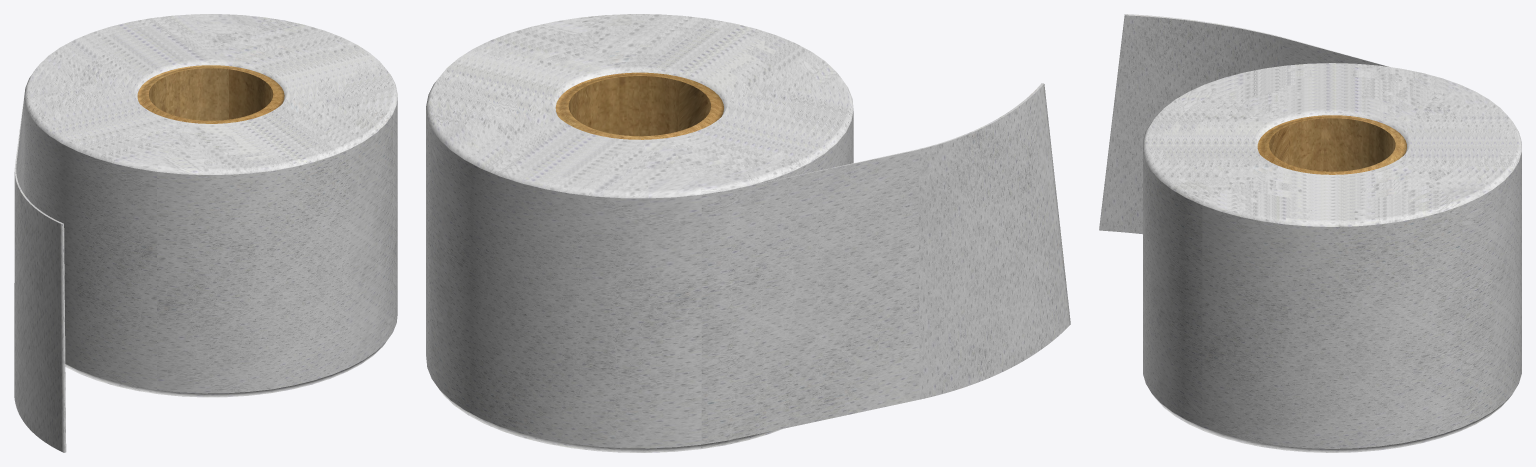
The model's file is Toalet_papir.fbx.
3 views of the same model, side by side, from view 1: azimuth 30°, elevation 25°; view 2: azimuth 150°, elevation 25°; view 3: azimuth 270°, elevation 25° (orthographic). The views are drawn at different scales.
Visible parts, largest first — view 1: Toalet_papir_model1; view 2: Toalet_papir_model1; view 3: Toalet_papir_model1.
Boxes of the visible parts, <box> form: Toalet_papir_model1: <box>14,14,397,452</box>; Toalet_papir_model1: <box>426,14,1070,452</box>; Toalet_papir_model1: <box>1099,14,1521,452</box>.
Size of the model in its own units: 6.56 by 3.43 by 5.57.
1 material, 1 textured.
